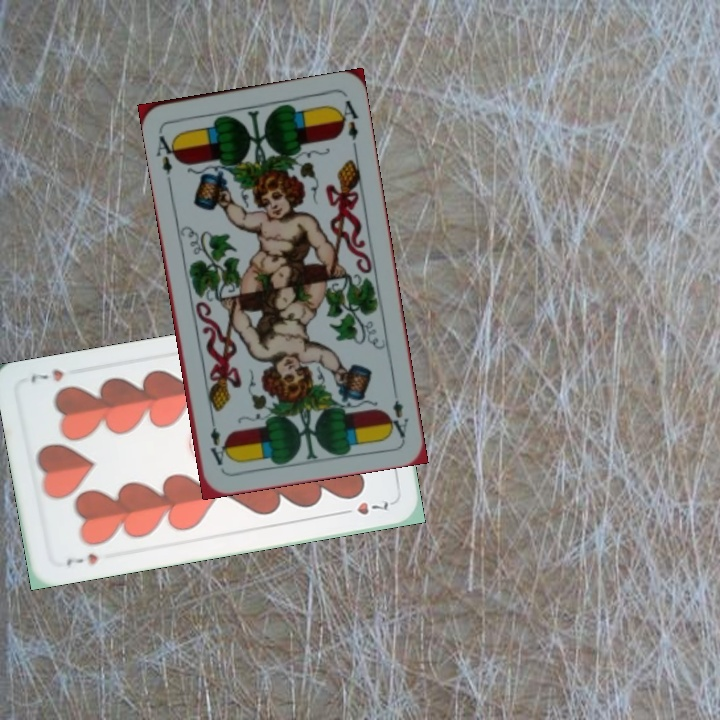EA: (152, 126, 182, 185), (384, 381, 412, 440)
H7: (62, 549, 101, 568)
